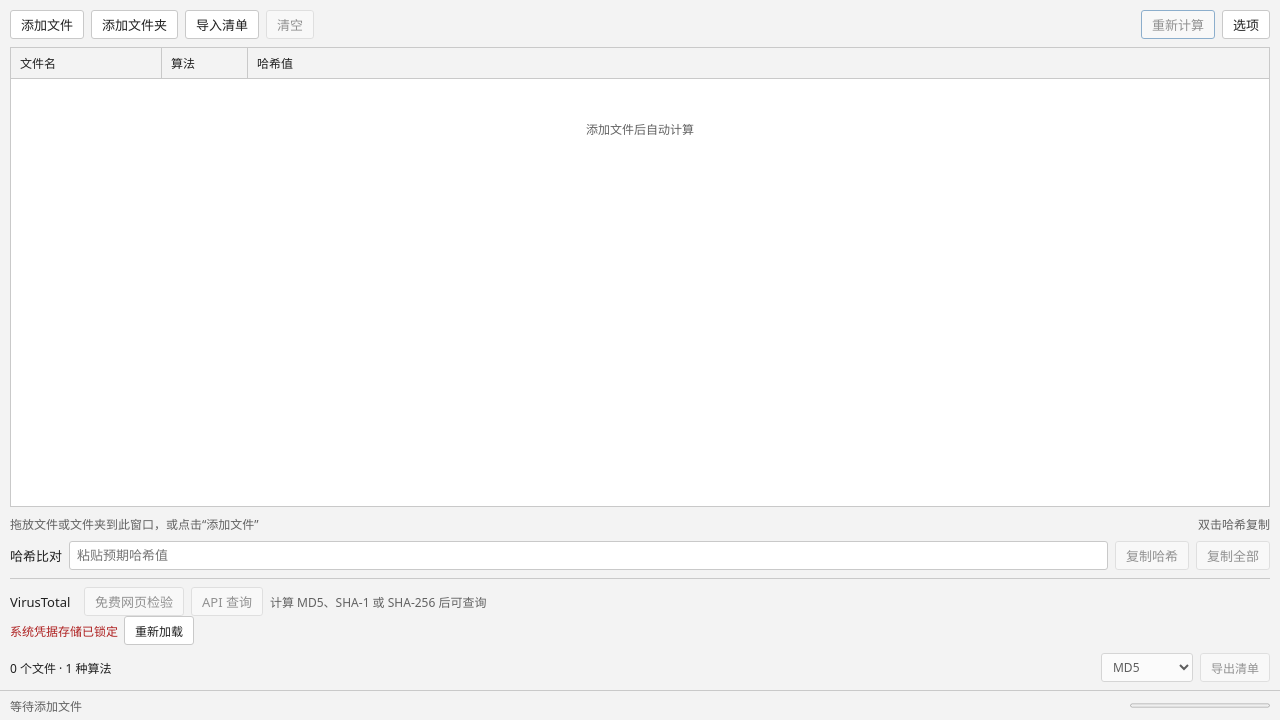
Test: allows retrying automatic restoration after the credential store is unlocked
Expected: the message "系统凭据存储已锁定 重新加载" is shown, [10,622,118,640]
Click the button "重新加载" at coordinates (159, 630), box [124,616,194,645]
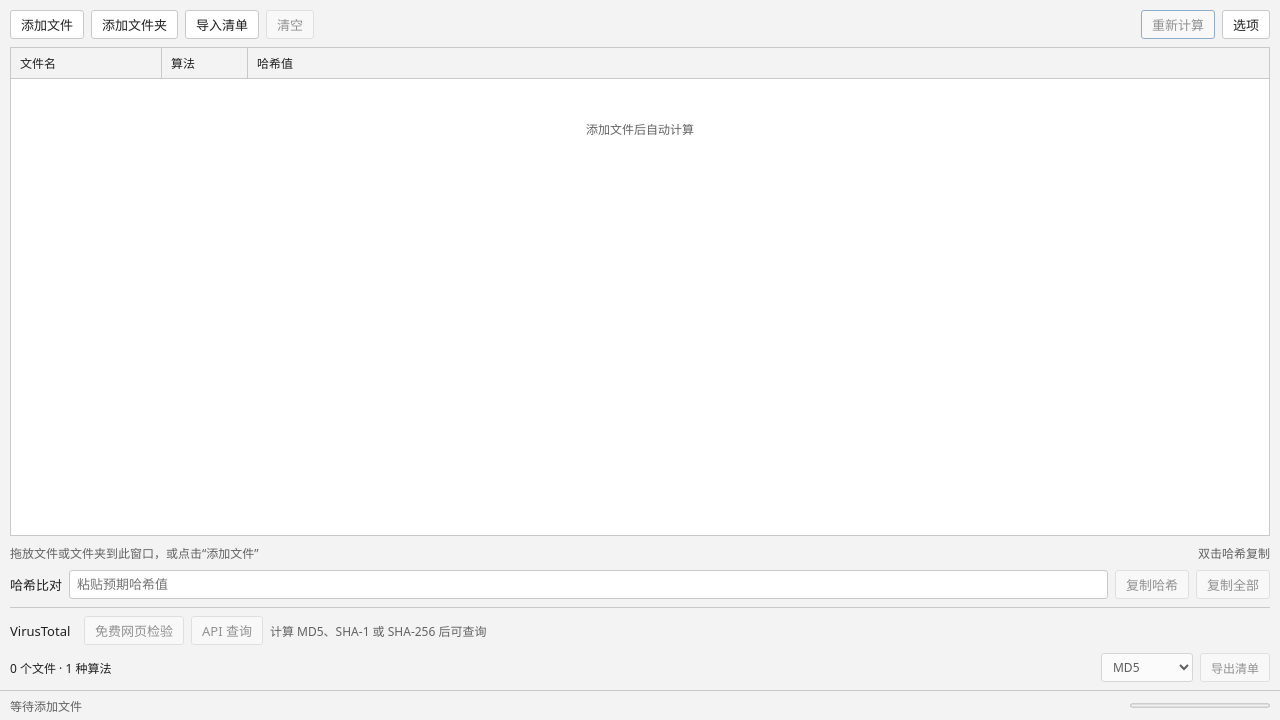
Click the button "选项" at coordinates (1246, 24), box [1222,10,1270,39]
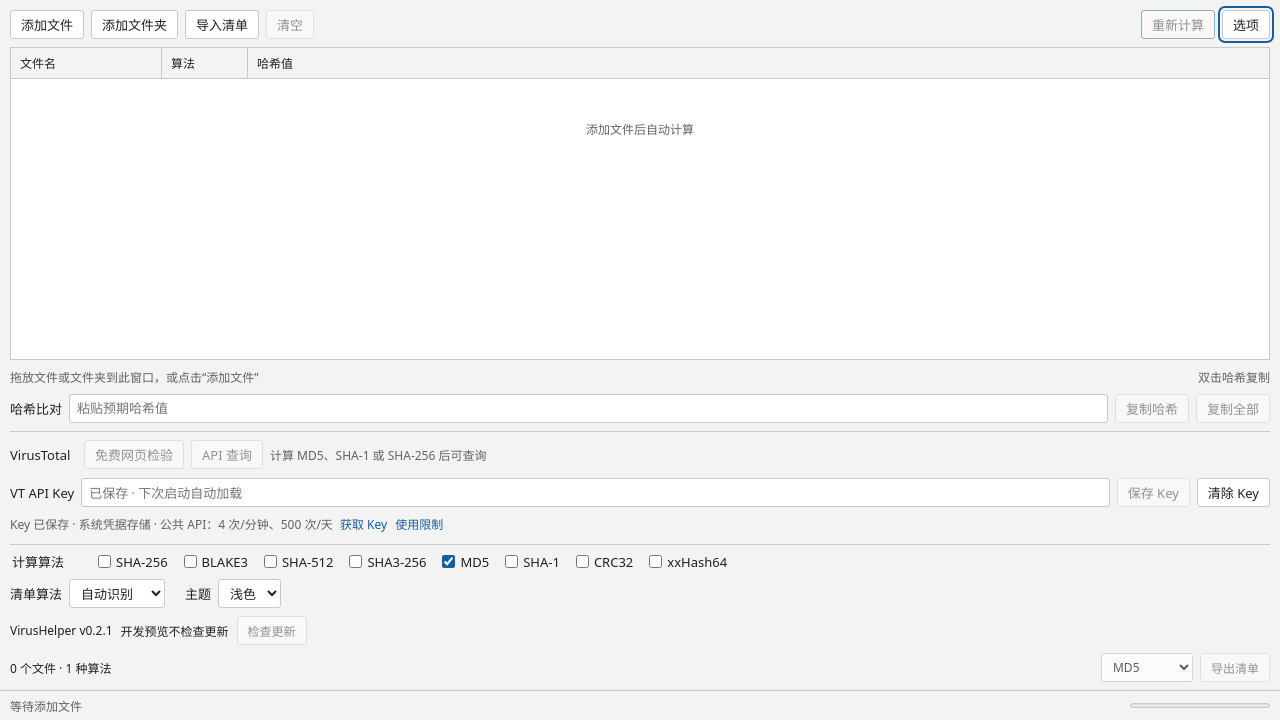
Expected: the message is not shown
Result: the text "Key 已保存 · 系统凭据存储 · 公共 API：4 次/分钟、500 次/天 获取 Key 使用限制" is shown at [10,516,69,533]
